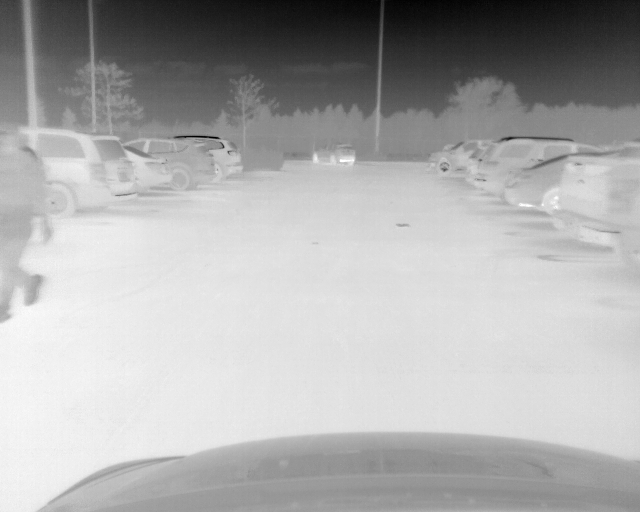car: (15, 127, 140, 218), (557, 147, 640, 271), (478, 136, 594, 198), (505, 150, 575, 224), (125, 137, 217, 191), (178, 137, 244, 185), (427, 137, 488, 175), (125, 146, 170, 196), (309, 143, 357, 168)
people: (1, 124, 53, 325)
